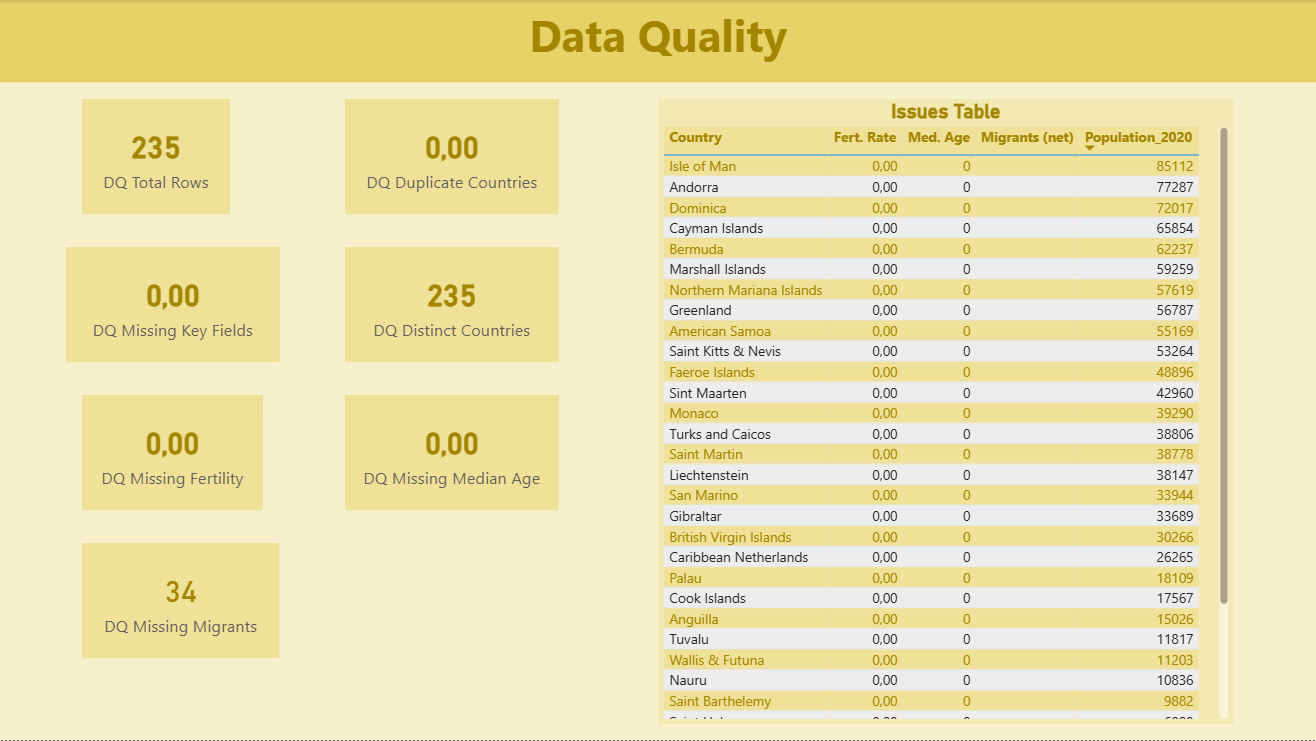

What the dashboard file says about the page in this screenshot:
{"tool":"powerbi","page":{"name":"DatQuality","canvas":[1280,720],"ordinal":2},"visuals":[{"type":"textbox","box":[0,0,1280,80],"z":0}]}

Visuals, with their boxes in screenshot pixels (x1, y1, x2, y2), scaled from the page's 1280x720 canvas onto the 1316x741 screenshot:
textbox: 0:0:1315:82
